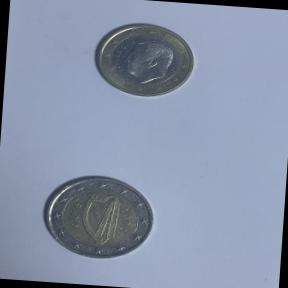1 Euro-B: (88, 18, 198, 104)
2 Euro-B: (37, 170, 159, 264)
